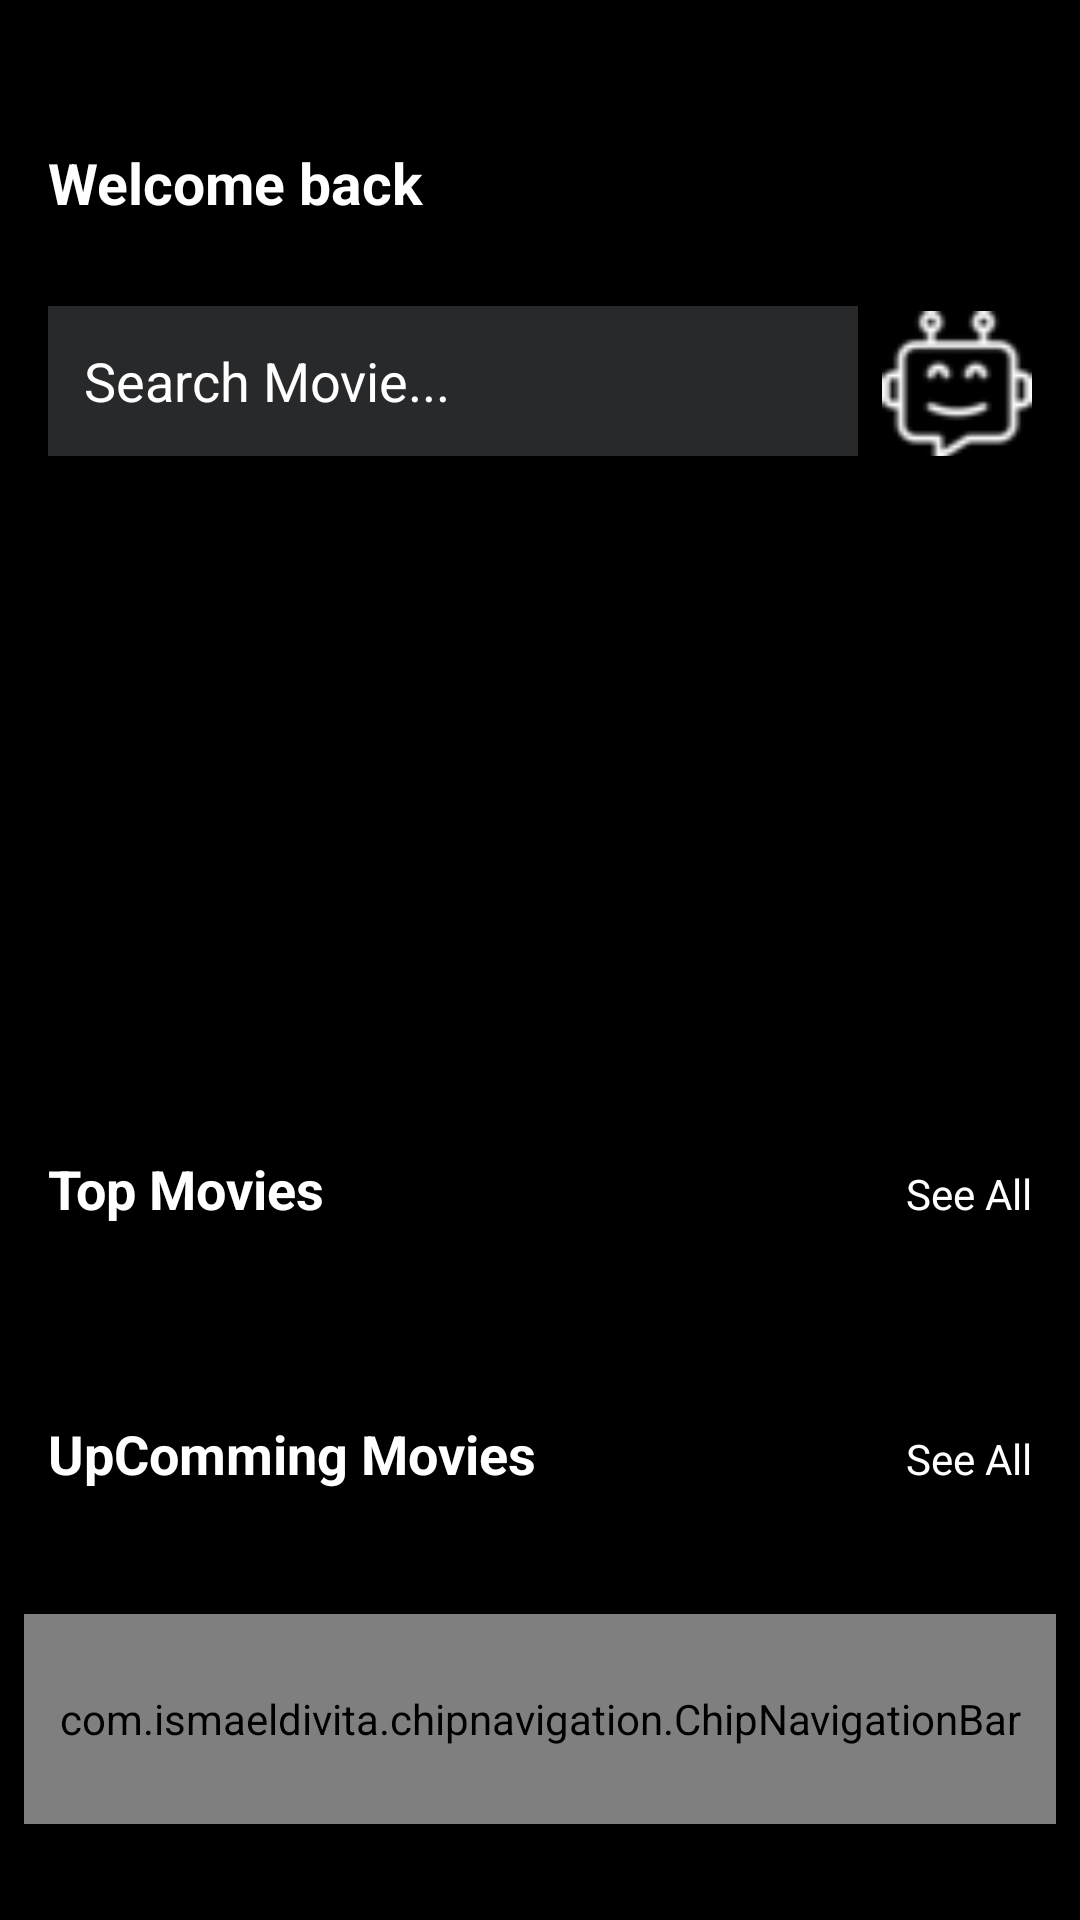

Where to tap for icons on this 1080×1920 app screen, as (x=x, y=y):
Chatbot: (x=957, y=383)
